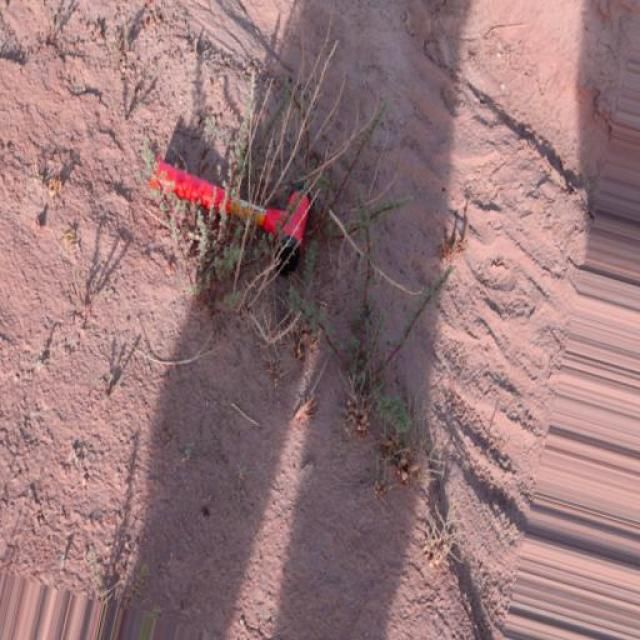mallet: (142, 152, 312, 274)
